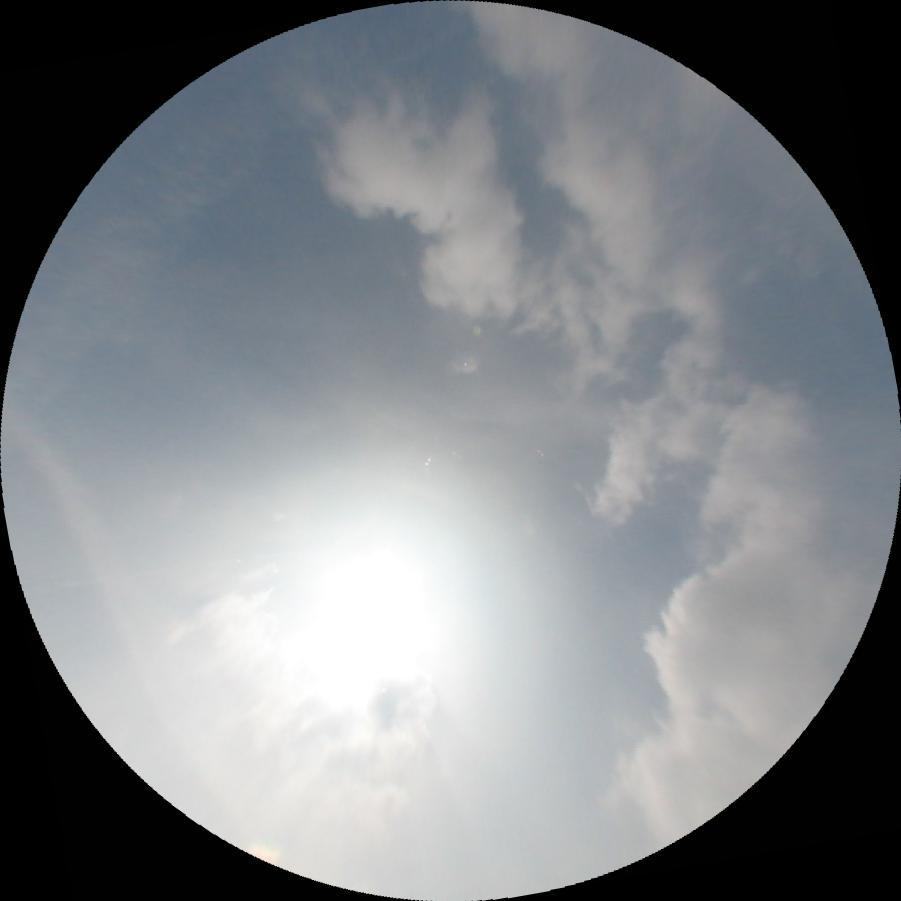sun: (313, 545, 441, 658)
